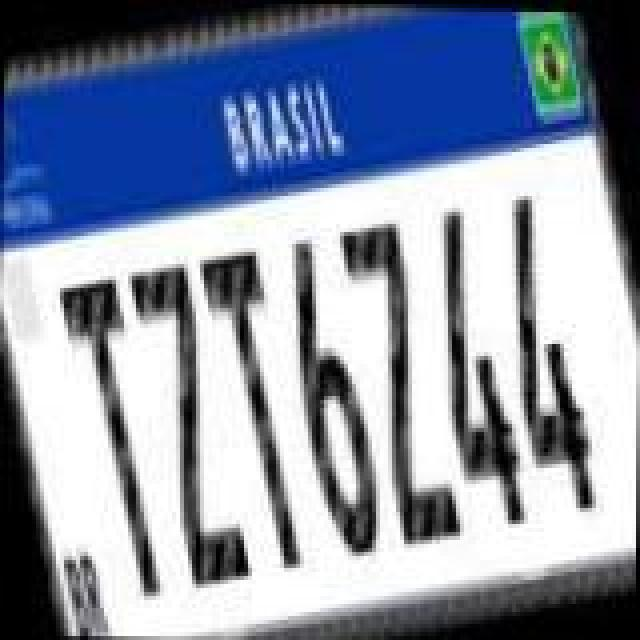4: (402, 198, 542, 538), (470, 184, 610, 524)
6: (260, 226, 400, 566)
T: (50, 270, 186, 606), (194, 244, 330, 580)
Z: (120, 254, 260, 594), (330, 212, 470, 552)
